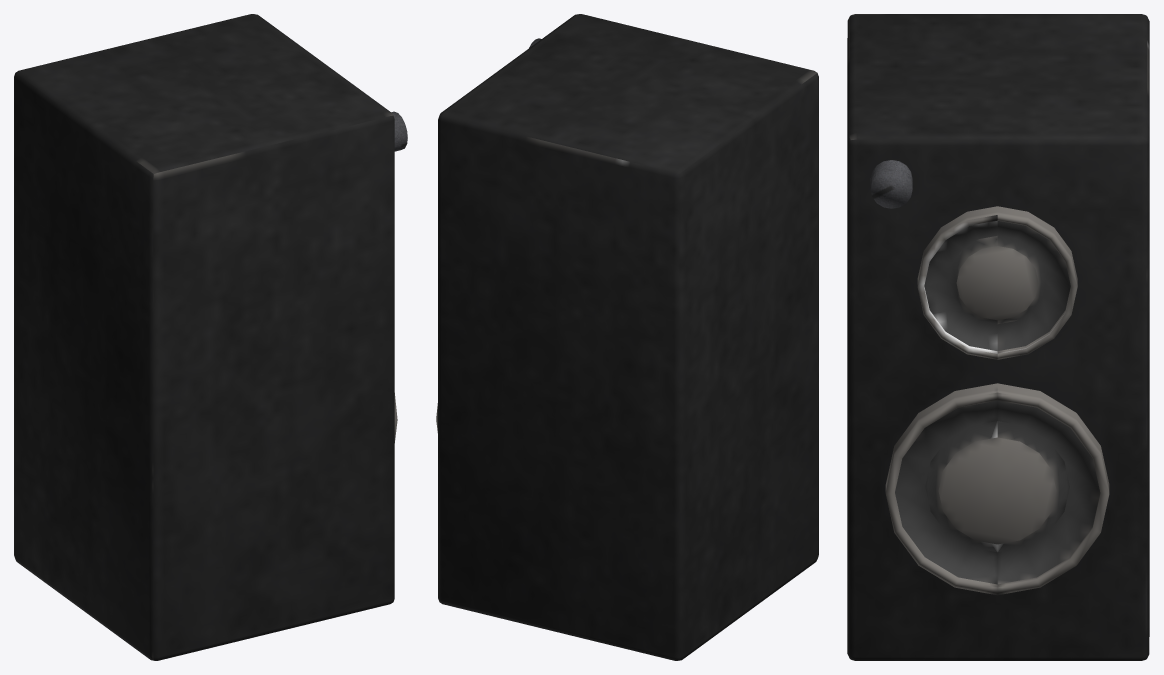
File: speaker_sp.glb
The picture shows the model from 3 angles, left to right: view 1: azimuth 30°, elevation 25°; view 2: azimuth 150°, elevation 25°; view 3: azimuth 270°, elevation 25°; orthographic projection. The views are drawn at different scales.
Visible parts, largest first — view 1: Cube.007; view 2: Cube.007; view 3: Cube.007, Cylinder.008, Cylinder.007, Cylinder.
Boxes of the visible parts, x1,y1,x2,y2 form: Cube.007: (14,14,394,660); Cube.007: (438,14,818,660); Cube.007: (847,14,1149,660); Cylinder.008: (885,383,1109,595); Cylinder.007: (917,206,1077,359); Cylinder: (870,160,912,208).
Size of the model in its own units: 1.48 by 2.62 by 1.37.
Materials: 2 (2 with a texture image).
